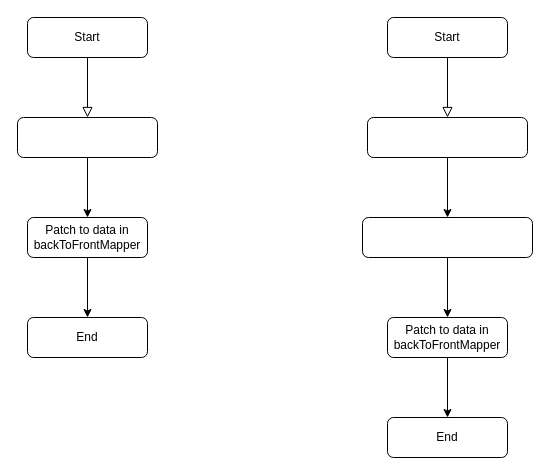
Image size: 550x475. Some labels were removed from this diagram. The centre of each missing label's shape, as x and y in pixels:
"convert field data with locales" belongs at (447,237).
"get origin document" belongs at (447,137).
"Pass X-Locales to BEE" belongs at (87,137).
